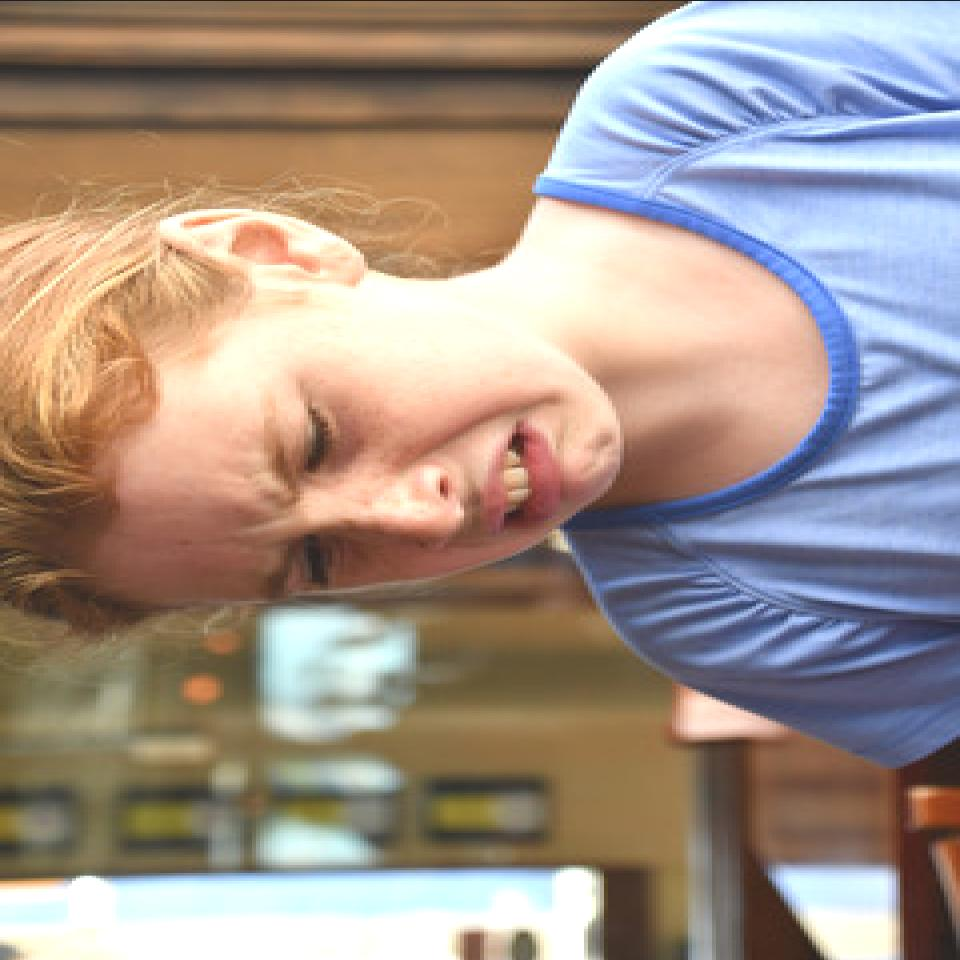Disgust: (88, 250, 604, 616)
